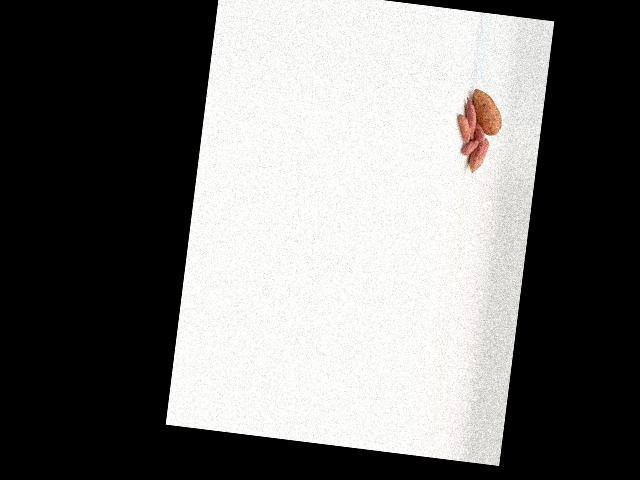sweet_potato: (467, 137, 489, 176)
